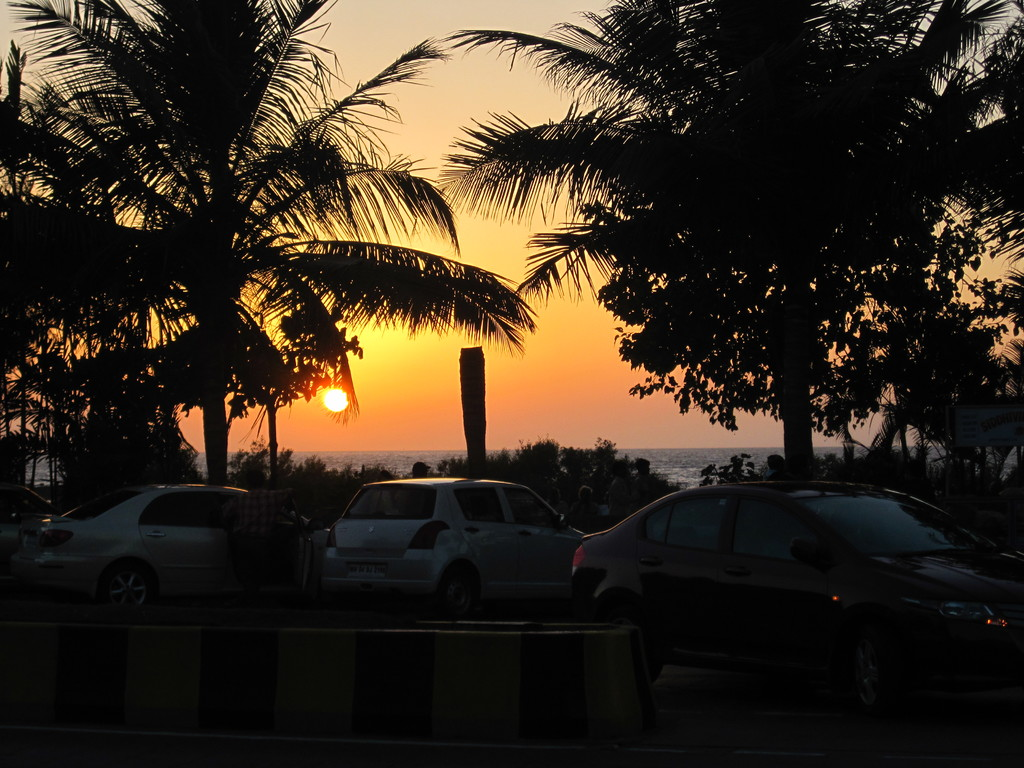cars: (572, 480, 1023, 684), (293, 474, 595, 621), (32, 480, 329, 616), (0, 484, 48, 580)
